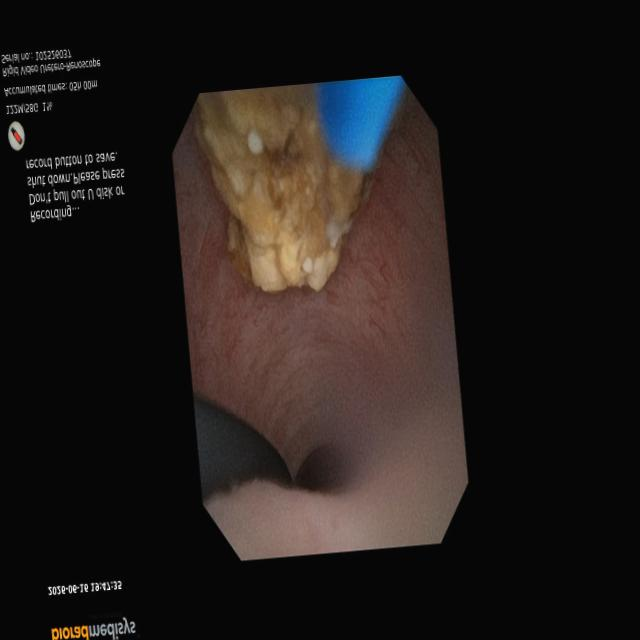laser-fibre: (320, 146, 368, 243)
stone-new: (195, 86, 371, 291)
